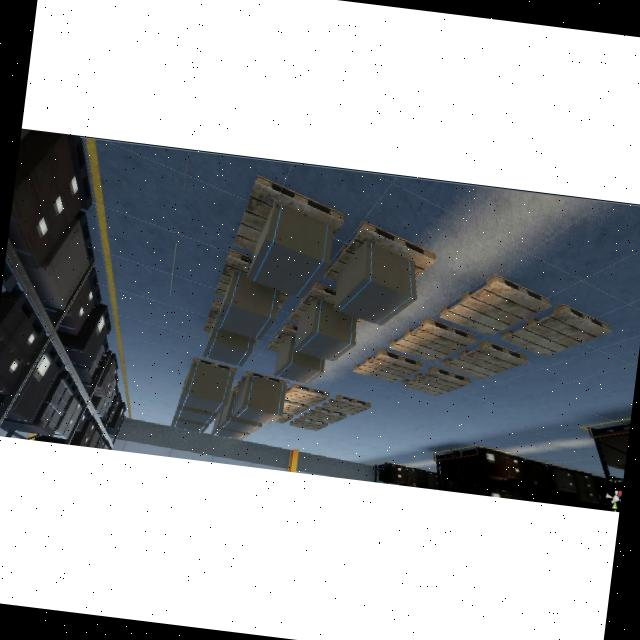wooden_pallet: (233, 175, 344, 252), (438, 273, 550, 337), (323, 220, 437, 280), (500, 303, 611, 357), (388, 317, 476, 363), (441, 340, 527, 379), (353, 348, 424, 382), (401, 365, 471, 396), (288, 281, 335, 323), (284, 383, 329, 406), (321, 395, 371, 415), (267, 322, 297, 352), (302, 406, 346, 423)
